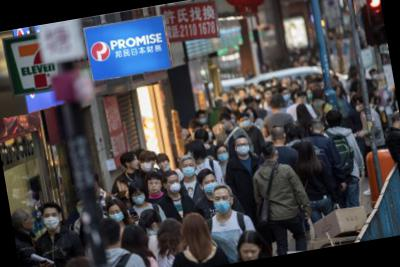mask_weared_incorrect: (157, 161, 171, 172)
with_mask: (213, 193, 234, 215), (42, 211, 62, 232), (108, 208, 127, 226), (202, 177, 220, 196), (166, 177, 184, 195), (235, 140, 252, 158), (181, 160, 197, 179), (131, 191, 148, 206), (139, 158, 155, 173), (217, 148, 231, 162), (240, 117, 252, 130), (281, 90, 293, 102), (220, 120, 233, 131), (198, 114, 209, 126), (355, 102, 367, 113), (77, 201, 86, 214), (307, 91, 315, 100)
without_mask: (240, 240, 262, 262), (149, 178, 164, 194), (25, 214, 36, 231), (129, 156, 141, 170)
